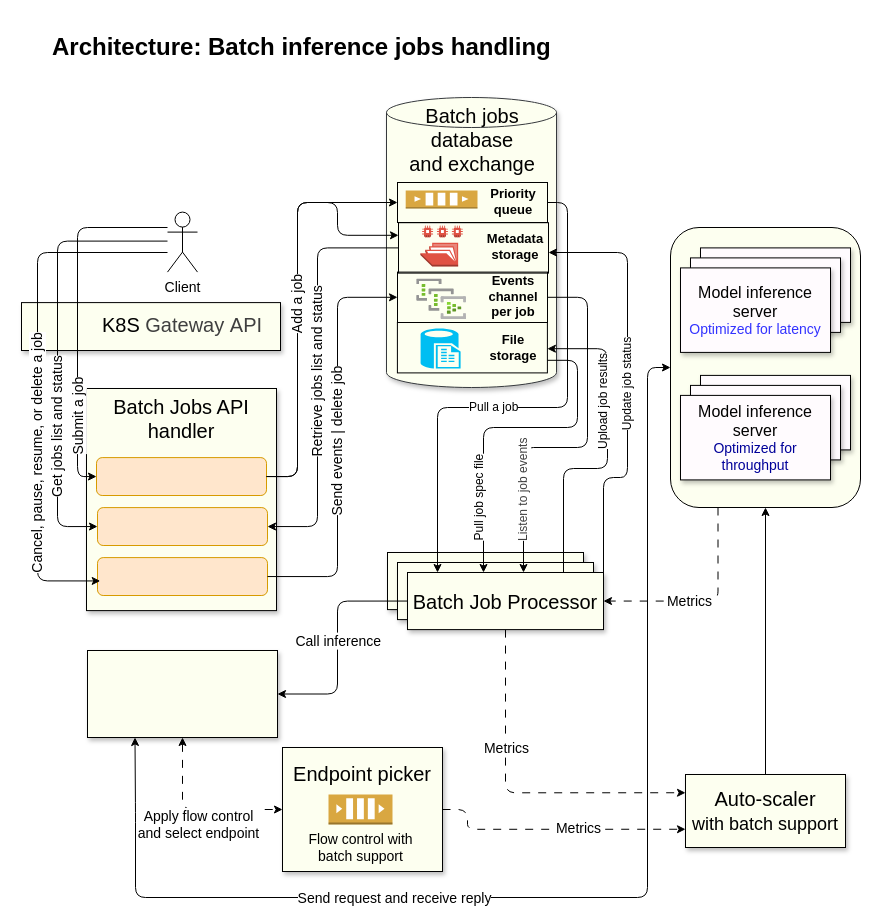
Some shapes in this 878 by 924 pixel diagram are drawn without their labels. The shapes that lost their labels are listed below. From the top down, each one's centre as x and y in pixels, then its label:
point (181, 476): Batch job submission handler
point (182, 526): Batch job retrieval handler
point (182, 576): Batch job control handler
point (183, 695): Traffic Proxy with inference extension
